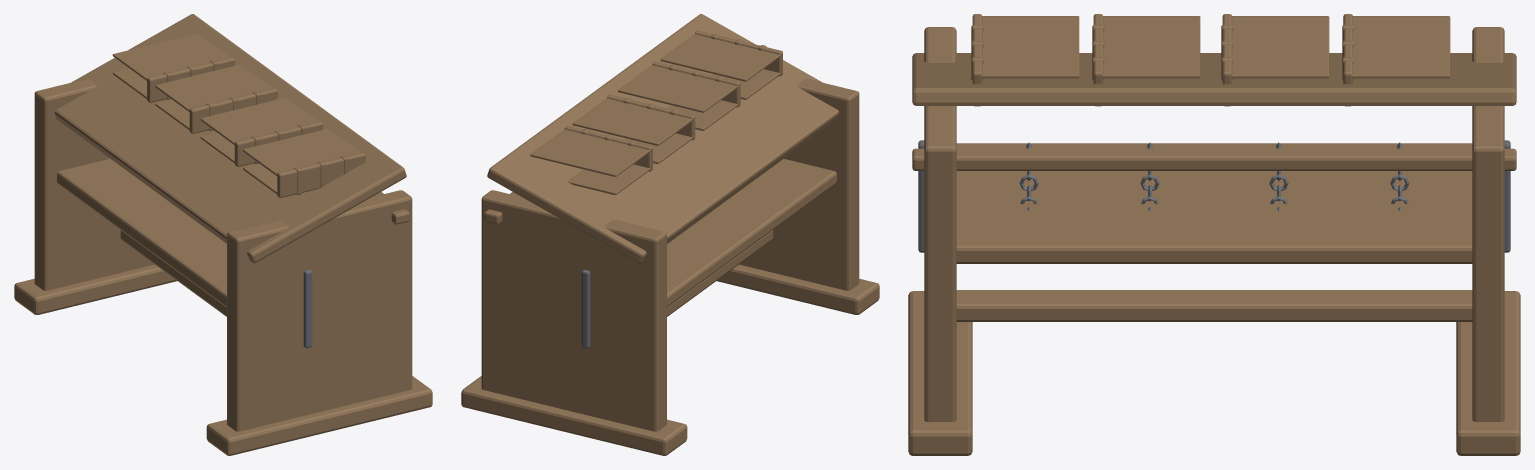
The model's file is monastery_chained_library_desk.glb.
3 renders of one model, left to right at view 1: azimuth 30°, elevation 25°; view 2: azimuth 150°, elevation 25°; view 3: azimuth 270°, elevation 25°, orthographic. The views are drawn at different scales.
Parts seen in each view (by area): view 1: world; view 2: world; view 3: world.
Boxes of the visible parts, <box> form: world: <box>14,14,432,455</box>; world: <box>461,14,879,455</box>; world: <box>908,14,1520,455</box>.
Bounding box in the file's own units: 1.11 × 1.28 × 2.
